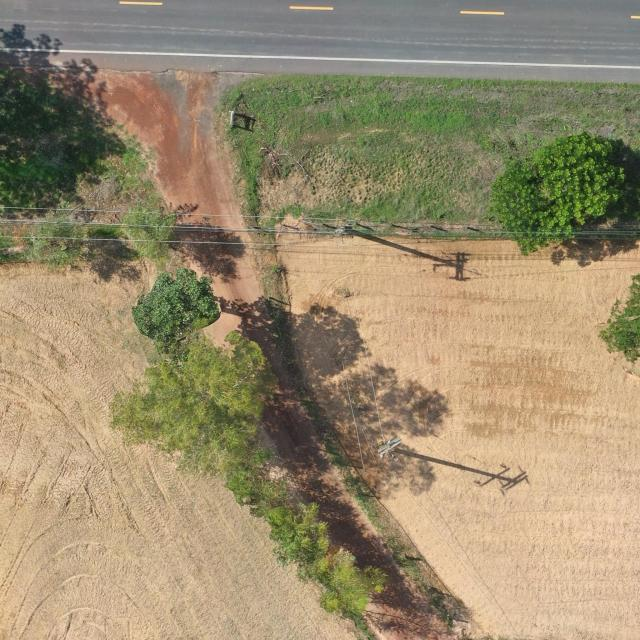tree: (107, 330, 270, 477), (490, 130, 628, 257), (130, 266, 220, 344), (318, 546, 388, 621), (266, 501, 329, 564), (29, 218, 94, 274), (117, 203, 176, 259)
